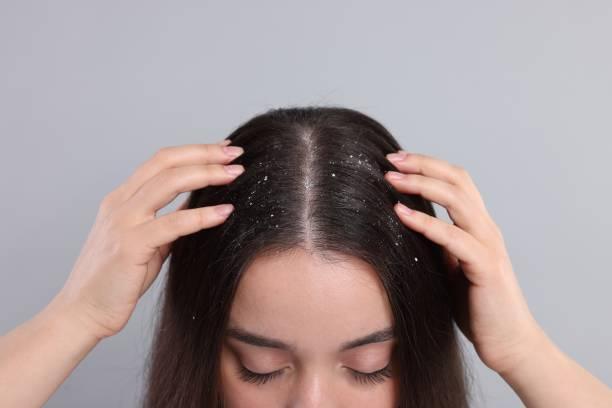dandruff: (384, 224, 423, 271), (246, 196, 292, 234), (344, 145, 374, 171), (304, 138, 328, 157), (256, 167, 269, 185), (181, 311, 200, 323), (326, 167, 339, 180)
